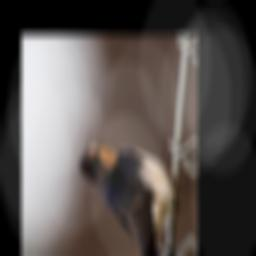Swallow: (73, 138, 186, 256)
